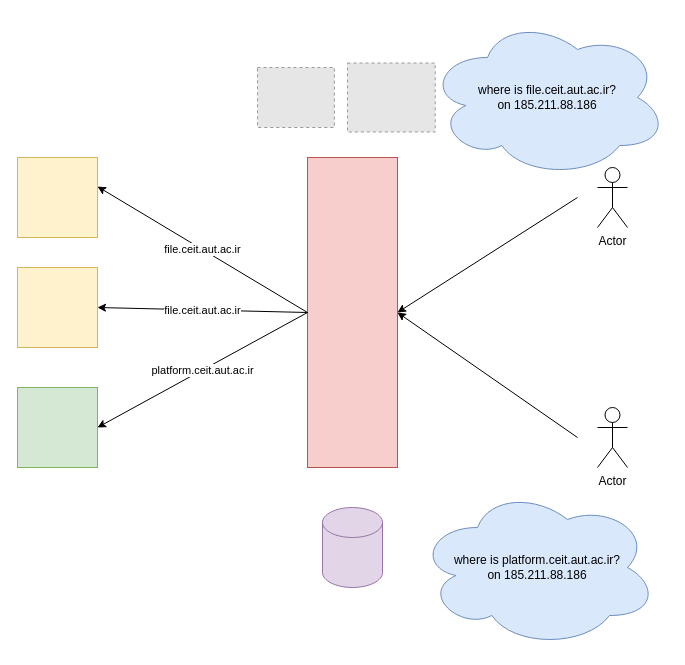
This 685x665 diagram has some shape labels left out. Grey dashed boxes stand in for pictures. The centre of each missing label's shape, as x and y in pixels:
Cache: the point at 352,547
gateway.ceit.aut.ac.ir 185.211.88.186: the point at 352,312
